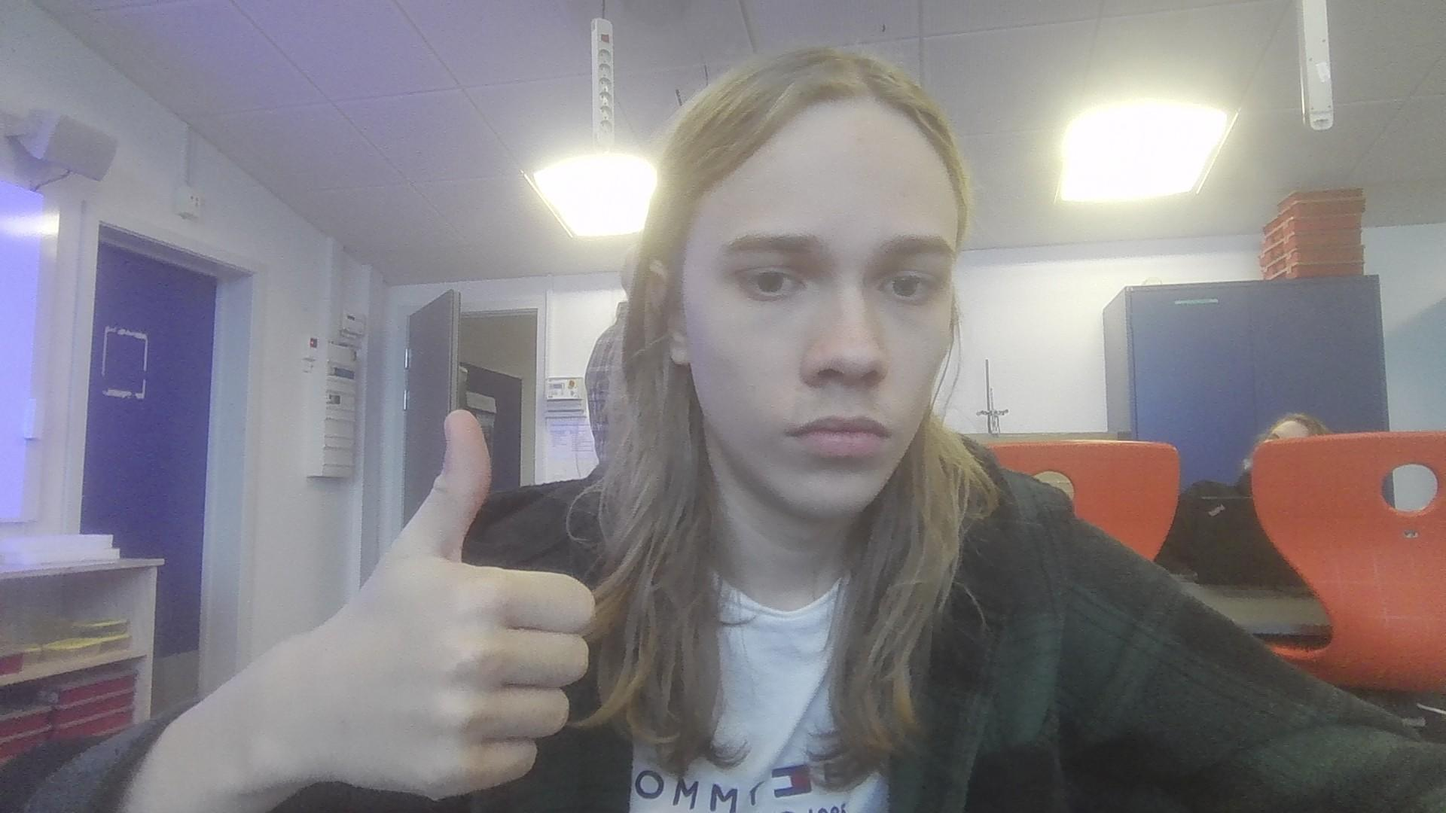thumbs up: (299, 403, 606, 798)
